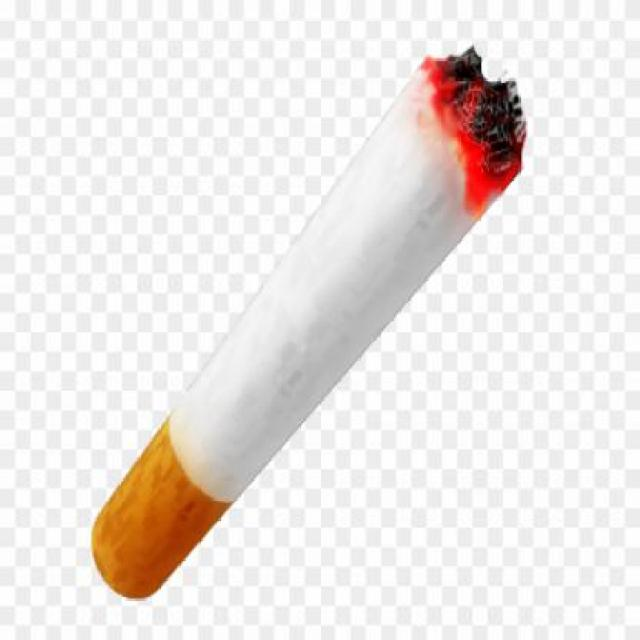cigarette: (88, 95, 570, 599)
